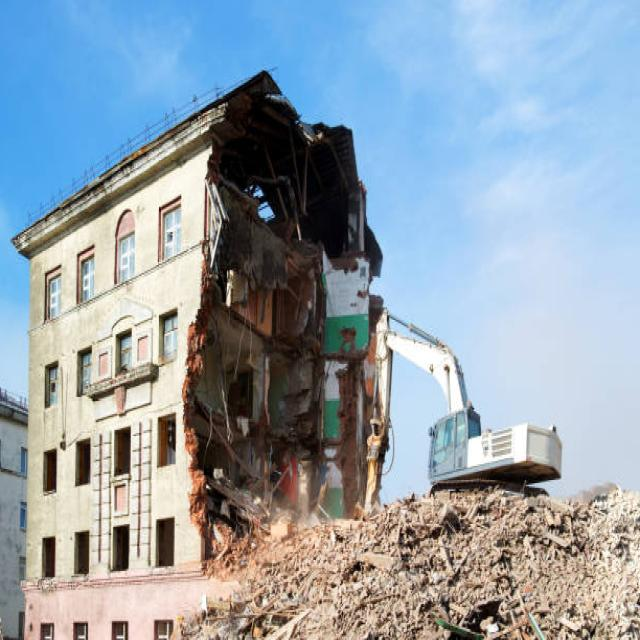Destroyed_building: (0, 3, 418, 640)
